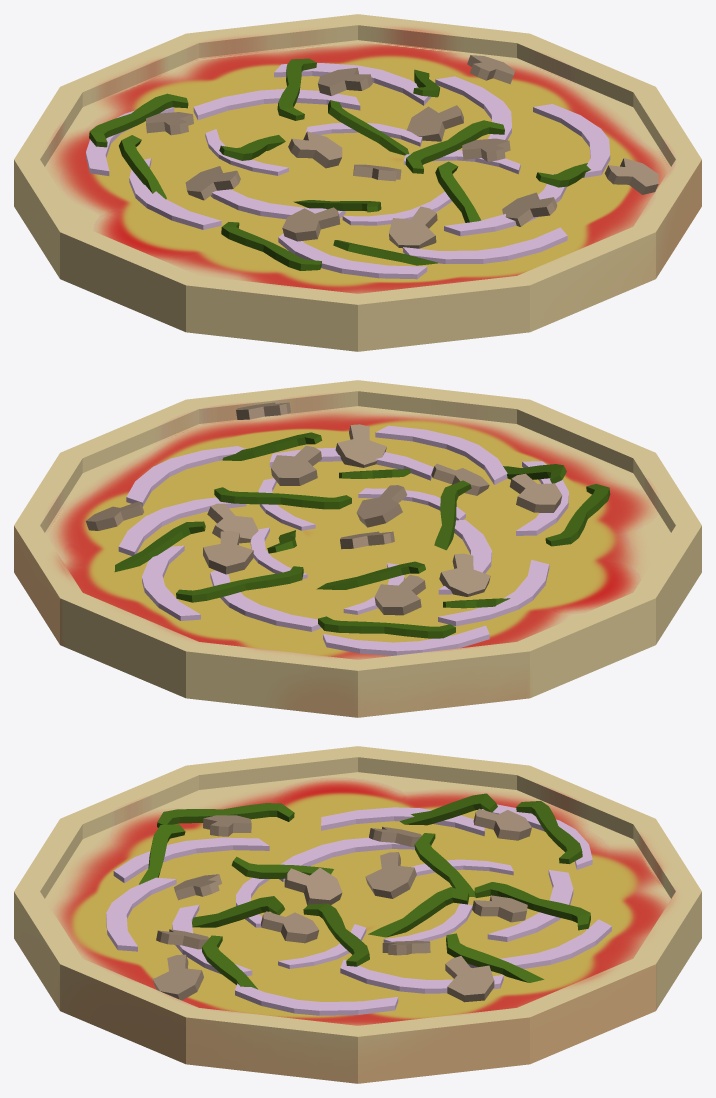
File: RawVegNOnion.fbx
3 views of the same model, one above another, from view 1: azimuth 30°, elevation 25°; view 2: azimuth 150°, elevation 25°; view 3: azimuth 270°, elevation 25° (orthographic).
Parts seen in each view (by area): view 1: PizzaBase, VeggiesCut.004, Onions; view 2: PizzaBase, VeggiesCut.004, Onions; view 3: PizzaBase, VeggiesCut.004, Onions.
Part boxes in pixels (x1,y1,x2,y2): PizzaBase: [14, 14, 701, 351]; VeggiesCut.004: [89, 55, 658, 270]; Onions: [86, 63, 610, 279]; PizzaBase: [14, 380, 701, 717]; VeggiesCut.004: [86, 402, 610, 638]; Onions: [118, 425, 568, 655]; PizzaBase: [14, 746, 701, 1083]; VeggiesCut.004: [139, 793, 590, 1002]; Onions: [106, 804, 611, 1015].
Bounding box in the file's own units: 200 × 21.9 × 200.
